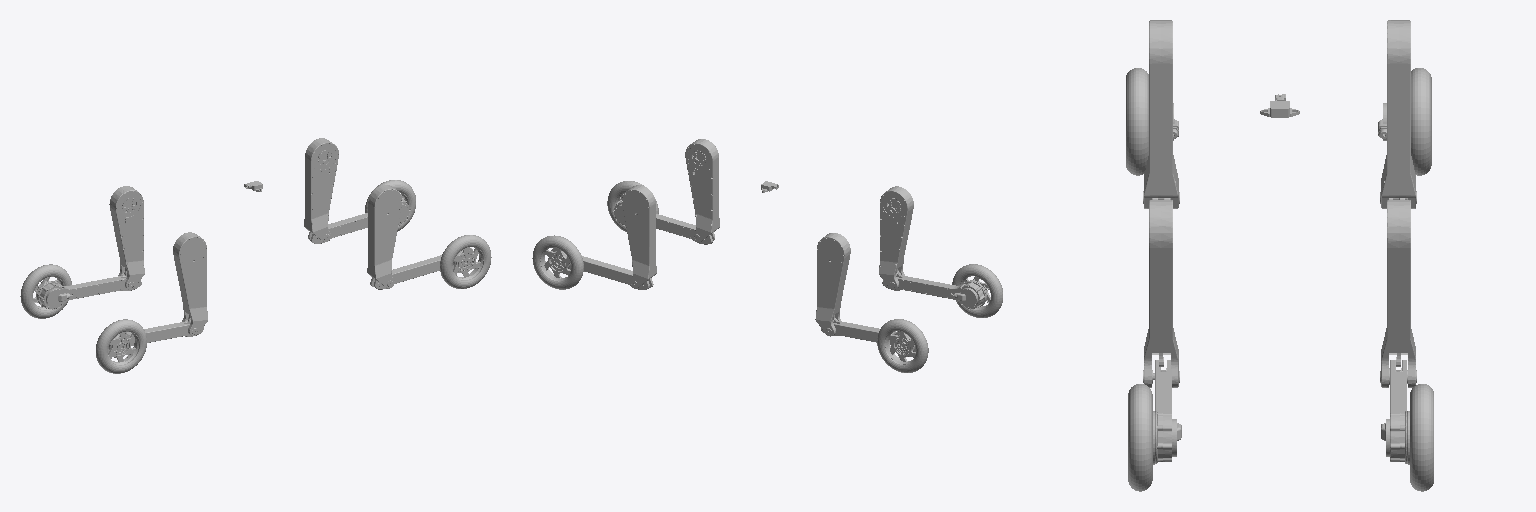
The robot description file, URDF, robot "nezha_description":
<?xml version="1.0" encoding="utf-8"?>
<!-- This URDF was automatically created by SolidWorks to URDF Exporter! Originally created by [author] ([email redacted]) 
     Commit Version: 1.6.0-1-g15f4949  Build Version: 1.6.7594.29634
     For more information, please see http://wiki.ros.org/sw_urdf_exporter -->
<robot
  name="nezha_description">
  <link
    name="trunk_link">
    <inertial>
      <origin
        xyz="0.0097117109800291 -0.00525627464822826 -0.0192016961853611"
        rpy="0 0 0" />
      <mass
        value="44.5813071668691" />
      <inertia
        ixx="0.233715251696309"
        ixy="0.00020507684970943"
        ixz="-0.000286397092023406"
        iyy="0.819140009122644"
        iyz="0.00145609041052585"
        izz="0.983900099657219" />
    </inertial>
    <visual>
      <origin
        xyz="0 0 0"
        rpy="0 0 0" />
      <geometry>
        <mesh
          filename="package://nezha_description/meshes/trunk_link.STL" />
      </geometry>
      <material
        name="">
        <color
          rgba="0.752941176470588 0.752941176470588 0.752941176470588 1" />
      </material>
    </visual>
    <collision>
      <origin
        xyz="0.050 -0.039 -0.045"
        rpy="0 0 0" />
      <geometry>
        <box size="1.121 0.400 0.230" />
      </geometry>
    </collision>
  </link>
  <link
    name="imu_fixed_joint">
    <inertial>
      <origin
        xyz="-0.00391112286353751 4.6759053572501E-05 -0.00988104856351035"
        rpy="0 0 0" />
      <mass
        value="0.317149482477396" />
      <inertia
        ixx="6.62700393762491E-05"
        ixy="1.25080932738823E-08"
        ixz="2.47362681608485E-07"
        iyy="4.70829664870011E-05"
        iyz="-6.38035704808032E-10"
        izz="9.20394438938914E-05" />
    </inertial>
    <visual>
      <origin
        xyz="0 0 0"
        rpy="0 0 0" />
      <geometry>
        <mesh
          filename="package://nezha_description/meshes/imu_fixed_joint.STL" />
      </geometry>
      <material
        name="">
        <color
          rgba="0.752941176470588 0.752941176470588 0.752941176470588 1" />
      </material>
    </visual>
  </link>
  <joint
    name="imu_fixed_joint"
    type="fixed">
    <origin
      xyz="0.00112019201975541 -0.0364882468746482 0.0510999999999999"
      rpy="0 0 0" />
    <parent
      link="trunk_link" />
    <child
      link="imu_fixed_joint" />
    <axis
      xyz="0 0 0" />
  </joint>
  <link
    name="FL_hip_Link">
    <inertial>
      <origin
        xyz="0.0481308758434225 0.031237411921266 -0.000178820738816809"
        rpy="0 0 0" />
      <mass
        value="4.95777307433677" />
      <inertia
        ixx="0.007359084735518"
        ixy="9.2084741196232E-06"
        ixz="-5.41479669002336E-05"
        iyy="0.00905576335336951"
        iyz="-3.45085679226975E-05"
        izz="0.00568945767210049" />
    </inertial>
    <visual>
      <origin
        xyz="0 0 0"
        rpy="0 0 0" />
      <geometry>
        <mesh
          filename="package://nezha_description/meshes/FL_hip_Link.STL" />
      </geometry>
      <material
        name="">
        <color
          rgba="1 1 1 1" />
      </material>
    </visual>
  </link>
  <joint
    name="FL_hip_joint"
    type="revolute">
    <origin
      xyz="0.347120192019755 0.0485117531253507 -0.0290000000000001"
      rpy="0 0 0" />
    <parent
      link="trunk_link" />
    <child
      link="FL_hip_Link" />
    <axis
      xyz="1 0 0" />
    <limit
      lower="-0.7854"
      upper="1.5533"
      effort="300"
      velocity="30" />
  </joint>
  <link
    name="FL_thigh_Link">
    <inertial>
      <origin
        xyz="-0.00789152728440906 0.0231954085669646 -0.13534872873866"
        rpy="0 0 0" />
      <mass
        value="3.76183569211295" />
      <inertia
        ixx="0.0451073093483587"
        ixy="-1.55510741831772E-06"
        ixz="-0.00269646684705478"
        iyy="0.0482771079577287"
        iyz="-1.22316362690701E-05"
        izz="0.00375836763200595" />
    </inertial>
    <visual>
      <origin
        xyz="0 0 0"
        rpy="0 0 0" />
      <geometry>
        <mesh
          filename="package://nezha_description/meshes/FL_thigh_Link.STL" />
      </geometry>
      <material
        name="">
        <color
          rgba="0.752941176470588 0.752941176470588 0.752941176470588 1" />
      </material>
    </visual>
  </link>
  <joint
    name="FL_thigh_joint"
    type="revolute">
    <origin
      xyz="0.0850000002315277 0.132499999999998 0"
      rpy="0 0 0" />
    <parent
      link="FL_hip_Link" />
    <child
      link="FL_thigh_Link" />
    <axis
      xyz="0 1 0" />
    <limit
      lower="-1.571"
      upper="1.571"
      effort="300"
      velocity="30" />
  </joint>
  <link
    name="FL_calf_Link">
    <inertial>
      <origin
        xyz="-0.000298930174633172 -0.0360468214801364 -0.231066279501091"
        rpy="0 0 0" />
      <mass
        value="2.04680739068494" />
      <inertia
        ixx="0.0179701447590882"
        ixy="1.4217010187377E-07"
        ixz="9.8394383276419E-05"
        iyy="0.0189697544277413"
        iyz="5.91548462227387E-05"
        izz="0.00117924531852517" />
    </inertial>
    <visual>
      <origin
        xyz="0 0 0"
        rpy="0 0 0" />
      <geometry>
        <mesh
          filename="package://nezha_description/meshes/FL_calf_Link.STL" />
      </geometry>
      <material
        name="">
        <color
          rgba="0.752941176470588 0.752941176470588 0.752941176470588 1" />
      </material>
    </visual>
    <collision>
      <origin
        xyz="0 -0.04 -0.170"
        rpy="0 0 0" />
      <geometry>
        <box size="0.05 0.06 0.390" />
      </geometry>
    </collision>
  </link>
  <joint
    name="FL_calf_joint"
    type="revolute">
    <origin
      xyz="0 0.0619999999999968 -0.330000000000104"
      rpy="0 0 0" />
    <parent
      link="FL_thigh_Link" />
    <child
      link="FL_calf_Link" />
    <axis
      xyz="0 1 0" />
    <limit
      lower="-2.478"
      upper="-0.768"
      effort="300"
      velocity="30" />
  </joint>
  <link
    name="FL_foot">
    <inertial>
      <origin
        xyz="-5.47956237606506E-08 0.0223421202026282 -1.43132890262354E-09"
        rpy="0 0 0" />
      <mass
        value="8.83568216072149" />
      <inertia
        ixx="0.0326100919299935"
        ixy="2.059536962888E-09"
        ixz="-4.28896163702452E-09"
        iyy="0.062627271804759"
        iyz="-6.79652953357635E-11"
        izz="0.0326099829503154" />
    </inertial>
    <visual>
      <origin
        xyz="0 0 0"
        rpy="0 0 0" />
      <geometry>
        <mesh
          filename="package://nezha_description/meshes/FL_foot_Link.STL" />
      </geometry>
      <material
        name="">
        <color
          rgba="0.752941176470588 0.752941176470588 0.752941176470588 1" />
      </material>
    </visual>
    <collision>
      <origin
        xyz="0 0.022 0"
        rpy="1.5707963267948966 0 0" />
      <geometry>
        <cylinder length="0.040" radius="0.105" />
      </geometry>
    </collision>
  </link>
  <joint
    name="FL_foot_joint"
    type="revolute">
    <origin
      xyz="0 -0.0140000000000013 -0.329999999999984"
      rpy="0 0 0" />
    <parent
      link="FL_calf_Link" />
    <child
      link="FL_foot" />
    <axis
      xyz="0 1 0" />
    <limit
      lower="-9999"
      upper="9999"
      effort="60"
      velocity="100" />
  </joint>
  <link
    name="FR_hip_Link">
    <inertial>
      <origin
        xyz="0.0481308758434078 -0.0312374119212663 0.000178820738807151"
        rpy="0 0 0" />
      <mass
        value="4.95777307433546" />
      <inertia
        ixx="0.00735908473551803"
        ixy="-9.20847411961681E-06"
        ixz="5.41479669002544E-05"
        iyy="0.00905576335336956"
        iyz="-3.4508567922699E-05"
        izz="0.00568945767210055" />
    </inertial>
    <visual>
      <origin
        xyz="0 0 0"
        rpy="0 0 0" />
      <geometry>
        <mesh
          filename="package://nezha_description/meshes/FR_hip_Link.STL" />
      </geometry>
      <material
        name="">
        <color
          rgba="1 1 1 1" />
      </material>
    </visual>
  </link>
  <joint
    name="FR_hip_joint"
    type="revolute">
    <origin
      xyz="0.34712 -0.12149 -0.029"
      rpy="0 0 0" />
    <parent
      link="trunk_link" />
    <child
      link="FR_hip_Link" />
    <axis
      xyz="1 0 0" />
    <limit
      lower="-1.5533"
      upper="0.7854"
      effort="300"
      velocity="30" />
  </joint>
  <link
    name="FR_thigh_Link">
    <inertial>
      <origin
        xyz="-0.00792823378010465 -0.0232000692498877 -0.135244006919692"
        rpy="0 0 0" />
      <mass
        value="3.76400910315758" />
      <inertia
        ixx="0.0450973379966484"
        ixy="1.77100087312649E-06"
        ixz="-0.00269076504849427"
        iyy="0.0482641849881902"
        iyz="1.26080258418607E-05"
        izz="0.00375548649616189" />
    </inertial>
    <visual>
      <origin
        xyz="0 0 0"
        rpy="0 0 0" />
      <geometry>
        <mesh
          filename="package://nezha_description/meshes/FR_thigh_Link.STL" />
      </geometry>
      <material
        name="">
        <color
          rgba="0.752941176470588 0.752941176470588 0.752941176470588 1" />
      </material>
    </visual>
  </link>
  <joint
    name="FR_thigh_joint"
    type="revolute">
    <origin
      xyz="0.0850000002315277 -0.132499999999998 0"
      rpy="0 0 0" />
    <parent
      link="FR_hip_Link" />
    <child
      link="FR_thigh_Link" />
    <axis
      xyz="0 1 0" />
    <limit
      lower="-1.571"
      upper="1.571"
      effort="300"
      velocity="30" />
  </joint>
  <link
    name="FR_calf_Link">
    <inertial>
      <origin
        xyz="-0.000395756832856642 0.0440509789333628 -0.174477985386167"
        rpy="0 0 0" />
      <mass
        value="2.49104186855833" />
      <inertia
        ixx="0.0368512511682875"
        ixy="-5.19290035519004E-08"
        ixz="0.000169732088195987"
        iyy="0.0379084013103881"
        iyz="-6.75252408226386E-05"
        izz="0.00117146878782971" />
    </inertial>
    <visual>
      <origin
        xyz="0 0 0"
        rpy="0 0 0" />
      <geometry>
        <mesh
          filename="package://nezha_description/meshes/FR_calf_Link.STL" />
      </geometry>
      <material
        name="">
        <color
          rgba="0.752941176470588 0.752941176470588 0.752941176470588 1" />
      </material>
    </visual>
    <collision>
      <origin
        xyz="0 0.05 -0.170"
        rpy="0 0 0" />
      <geometry>
        <box size="0.05 0.06 0.390" />
      </geometry>
    </collision>
  </link>
  <joint
    name="FR_calf_joint"
    type="revolute">
    <origin
      xyz="0 -0.0619999999999982 -0.329999999999805"
      rpy="0 0 0" />
    <parent
      link="FR_thigh_Link" />
    <child
      link="FR_calf_Link" />
    <axis
      xyz="0 1 0" />
    <limit
      lower="-2.478"
      upper="-0.768"
      effort="300"
      velocity="30" />
  </joint>
  <link
    name="FR_foot">
    <inertial>
      <origin
        xyz="5.47994326027812E-08 -0.0223421202039215 -1.43541313557538E-09"
        rpy="0 0 0" />
      <mass
        value="8.835682161799" />
      <inertia
        ixx="0.0326100919327111"
        ixy="2.05981956793858E-09"
        ixz="4.29123858577254E-09"
        iyy="0.0626272718074757"
        iyz="6.76314919727173E-11"
        izz="0.0326099829526871" />
    </inertial>
    <visual>
      <origin
        xyz="0 0 0"
        rpy="0 0 0" />
      <geometry>
        <mesh
          filename="package://nezha_description/meshes/FR_foot_Link.STL" />
      </geometry>
      <material
        name="">
        <color
          rgba="0.752941176470588 0.752941176470588 0.752941176470588 1" />
      </material>
    </visual>
    <collision>
      <origin
        xyz="0 -0.022 0"
        rpy="1.5707963267948966 0 0" />
      <geometry>
        <cylinder length="0.040" radius="0.105" />
      </geometry>
    </collision>
  </link>
  <joint
    name="FR_foot_joint"
    type="revolute">
    <origin
      xyz="0 0.0191743224506925 -0.329999999987678"
      rpy="0 0 0" />
    <parent
      link="FR_calf_Link" />
    <child
      link="FR_foot" />
    <axis
      xyz="0 1 0" />
    <limit
      lower="-9999"
      upper="9999"
      effort="60"
      velocity="100" />
  </joint>
  <link
    name="RL_hip_Link">
    <inertial>
      <origin
        xyz="-0.0481308758426632 0.0312374119208174 0.000178820738833574"
        rpy="0 0 0" />
      <mass
        value="4.95777307436682" />
      <inertia
        ixx="0.00735908473551868"
        ixy="-9.20847411963166E-06"
        ixz="-5.41479669001815E-05"
        iyy="0.00905576335337011"
        iyz="3.45085679229245E-05"
        izz="0.00568945767210076" />
    </inertial>
    <visual>
      <origin
        xyz="0 0 0"
        rpy="0 0 0" />
      <geometry>
        <mesh
          filename="package://nezha_description/meshes/RL_hip_Link.STL" />
      </geometry>
      <material
        name="">
        <color
          rgba="1 1 1 1" />
      </material>
    </visual>
  </link>
  <joint
    name="RL_hip_joint"
    type="revolute">
    <origin
      xyz="-0.34488 0.048512 -0.029"
      rpy="0 0 0" />
    <parent
      link="trunk_link" />
    <child
      link="RL_hip_Link" />
    <axis
      xyz="1 0 0" />
    <limit
      lower="-0.7854"
      upper="1.5533"
      effort="300"
      velocity="30" />
  </joint>
  <link
    name="RL_thigh_Link">
    <inertial>
      <origin
        xyz="0.00792940184602209 0.0232000692498988 -0.135243938440513"
        rpy="0 0 0" />
      <mass
        value="3.76400910317075" />
      <inertia
        ixx="0.0450972915147272"
        ixy="1.77110976416682E-06"
        ixz="0.0026911221065521"
        iyy="0.0482641849881934"
        iyz="-1.26080105434088E-05"
        izz="0.0037555329780878" />
    </inertial>
    <visual>
      <origin
        xyz="0 0 0"
        rpy="0 0 0" />
      <geometry>
        <mesh
          filename="package://nezha_description/meshes/RL_thigh_Link.STL" />
      </geometry>
      <material
        name="">
        <color
          rgba="0.752941176470588 0.752941176470588 0.752941176470588 1" />
      </material>
    </visual>
  </link>
  <joint
    name="RL_thigh_joint"
    type="revolute">
    <origin
      xyz="-0.0850000002315277 0.132499999999998 0"
      rpy="0 0 0" />
    <parent
      link="RL_hip_Link" />
    <child
      link="RL_thigh_Link" />
    <axis
      xyz="0 1 0" />
    <limit
      lower="-1.571"
      upper="1.571"
      effort="300"
      velocity="30" />
  </joint>
  <link
    name="RL_calf_Link">
    <inertial>
      <origin
        xyz="0.000386004912476312 -0.0440626375678176 -0.175092237974855"
        rpy="0 0 0" />
      <mass
        value="2.48364340590704" />
      <inertia
        ixx="0.0368510203687876"
        ixy="-5.25103185137994E-08"
        ixz="-0.000169423925155194"
        iyy="0.037907938835034"
        iyz="6.75252339517174E-05"
        izz="0.0011712321807454" />
    </inertial>
    <visual>
      <origin
        xyz="0 0 0"
        rpy="0 0 0" />
      <geometry>
        <mesh
          filename="package://nezha_description/meshes/RL_calf_Link.STL" />
      </geometry>
      <material
        name="">
        <color
          rgba="0.752941176470588 0.752941176470588 0.752941176470588 1" />
      </material>
    </visual>
    <collision>
      <origin
        xyz="0 -0.05 -0.170"
        rpy="0 0 0" />
      <geometry>
        <box size="0.05 0.06 0.390" />
      </geometry>
    </collision>
  </link>
  <joint
    name="RL_calf_joint"
    type="revolute">
    <origin
      xyz="0 0.0619999999999982 -0.329999999987498"
      rpy="0 0 0" />
    <parent
      link="RL_thigh_Link" />
    <child
      link="RL_calf_Link" />
    <axis
      xyz="0 1 0" />
    <limit
      lower="0.768"
      upper="2.478"
      effort="300"
      velocity="30" />
  </joint>
  <link
    name="RL_foot">
    <inertial>
      <origin
        xyz="-5.47956238161618E-08 0.0223421202026282 -1.43132586338801E-09"
        rpy="0 0 0" />
      <mass
        value="8.83568216072149" />
      <inertia
        ixx="0.0326100919299935"
        ixy="2.05953684317548E-09"
        ixz="-4.28896162889752E-09"
        iyy="0.0626272718047589"
        iyz="-6.79651576964532E-11"
        izz="0.0326099829503154" />
    </inertial>
    <visual>
      <origin
        xyz="0 0 0"
        rpy="0 0 0" />
      <geometry>
        <mesh
          filename="package://nezha_description/meshes/RL_foot_Link.STL" />
      </geometry>
      <material
        name="">
        <color
          rgba="0.752941176470588 0.752941176470588 0.752941176470588 1" />
      </material>
    </visual>
    <collision>
      <origin
        xyz="0 0.022 0"
        rpy="1.5707963267948966 0 0" />
      <geometry>
        <cylinder length="0.040" radius="0.105" />
      </geometry>
    </collision>
  </link>
  <joint
    name="RL_foot_joint"
    type="revolute">
    <origin
      xyz="0 -0.0191743224506925 -0.329999999999986"
      rpy="0 0 0" />
    <parent
      link="RL_calf_Link" />
    <child
      link="RL_foot" />
    <axis
      xyz="0 1 0" />
    <limit
      lower="-9999"
      upper="9999"
      effort="60"
      velocity="100" />
  </joint>
  <link
    name="RR_hip_Link">
    <inertial>
      <origin
        xyz="-0.0481308758426749 -0.0312374119208027 -0.000178820738822361"
        rpy="0 0 0" />
      <mass
        value="4.95777307436896" />
      <inertia
        ixx="0.00735908473551881"
        ixy="9.20847411964646E-06"
        ixz="5.41479669002005E-05"
        iyy="0.00905576335337035"
        iyz="3.4508567922934E-05"
        izz="0.0056894576721009" />
    </inertial>
    <visual>
      <origin
        xyz="0 0 0"
        rpy="0 0 0" />
      <geometry>
        <mesh
          filename="package://nezha_description/meshes/RR_hip_Link.STL" />
      </geometry>
      <material
        name="">
        <color
          rgba="1 1 1 1" />
      </material>
    </visual>
  </link>
  <joint
    name="RR_hip_joint"
    type="revolute">
    <origin
      xyz="-0.344879807980245 -0.121488246874649 -0.0290000000000001"
      rpy="0 0 0" />
    <parent
      link="trunk_link" />
    <child
      link="RR_hip_Link" />
    <axis
      xyz="1 0 0" />
    <limit
      lower="-1.5533"
      upper="0.7854"
      effort="300"
      velocity="30" />
  </joint>
  <link
    name="RR_thigh_Link">
    <inertial>
      <origin
        xyz="0.00789269587070718 -0.0231954085669464 -0.135348660048965"
        rpy="0 0 0" />
      <mass
        value="3.76183569211572" />
      <inertia
        ixx="0.045107262767927"
        ixy="-1.5552130589958E-06"
        ixz="0.00269682396637"
        iyy="0.0482771079577102"
        iyz="1.22316228381288E-05"
        izz="0.00375841421241886" />
    </inertial>
    <visual>
      <origin
        xyz="0 0 0"
        rpy="0 0 0" />
      <geometry>
        <mesh
          filename="package://nezha_description/meshes/RR_thigh_Link.STL" />
      </geometry>
      <material
        name="">
        <color
          rgba="0.752941176470588 0.752941176470588 0.752941176470588 1" />
      </material>
    </visual>
  </link>
  <joint
    name="RR_thigh_joint"
    type="revolute">
    <origin
      xyz="-0.0850000002315277 -0.132499999999998 0"
      rpy="0 0 0" />
    <parent
      link="RR_hip_Link" />
    <child
      link="RR_thigh_Link" />
    <axis
      xyz="0 1 0" />
    <limit
      lower="-1.571"
      upper="1.571"
      effort="300"
      velocity="30" />
  </joint>
  <link
    name="RR_calf_Link">
    <inertial>
      <origin
        xyz="0.000392106809710135 0.0482554129761137 -0.193054540786499"
        rpy="0 0 0" />
      <mass
        value="1.45901720310113" />
      <inertia
        ixx="0.0174773987392325"
        ixy="1.37149189677392E-07"
        ixz="-9.80221849379599E-05"
        iyy="0.0180881558682737"
        iyz="-5.92010373867024E-05"
        izz="0.000685825481739598" />
    </inertial>
    <visual>
      <origin
        xyz="0 0 0"
        rpy="0 0 0" />
      <geometry>
        <mesh
          filename="package://nezha_description/meshes/RR_calf_Link.STL" />
      </geometry>
      <material
        name="">
        <color
          rgba="0.752941176470588 0.752941176470588 0.752941176470588 1" />
      </material>
    </visual>
    <collision>
      <origin
        xyz="0 0.05 -0.170"
        rpy="0 0 0" />
      <geometry>
        <box size="0.05 0.06 0.390" />
      </geometry>
    </collision>
  </link>
  <joint
    name="RR_calf_joint"
    type="revolute">
    <origin
      xyz="0 -0.0619999999999969 -0.329999999460342"
      rpy="0 0 0" />
    <parent
      link="RR_thigh_Link" />
    <child
      link="RR_calf_Link" />
    <axis
      xyz="0 1 0" />
    <limit
      lower="0.768"
      upper="2.478"
      effort="300"
      velocity="30" />
  </joint>
  <link
    name="RR_foot">
    <inertial>
      <origin
        xyz="5.47956399143956E-08 -0.0223421202026284 -1.4308530471574E-09"
        rpy="0 0 0" />
      <mass
        value="8.83568216072149" />
      <inertia
        ixx="0.0326100919299194"
        ixy="2.05953639786105E-09"
        ixz="4.28990285591274E-09"
        iyy="0.062627271804759"
        iyz="6.7983045321868E-11"
        izz="0.0326099829503895" />
    </inertial>
    <visual>
      <origin
        xyz="0 0 0"
        rpy="0 0 0" />
      <geometry>
        <mesh
          filename="package://nezha_description/meshes/RR_foot_Link.STL" />
      </geometry>
      <material
        name="">
        <color
          rgba="0.752941176470588 0.752941176470588 0.752941176470588 1" />
      </material>
    </visual>
    <collision>
      <origin
        xyz="0 -0.022 0"
        rpy="1.5707963267948966 0 0" />
      <geometry>
        <cylinder length="0.040" radius="0.105" />
      </geometry>
    </collision>
  </link>
  <joint
    name="RR_foot_joint"
    type="revolute">
    <origin
      xyz="0 0.0140000000000008 -0.329999999987677"
      rpy="0 0 0" />
    <parent
      link="RR_calf_Link" />
    <child
      link="RR_foot" />
    <axis
      xyz="0 1 0" />
    <limit
      lower="-9999"
      upper="9999"
      effort="60"
      velocity="100" />
  </joint>
</robot>

--- Render facts (derived) ---
The picture shows the robot from 3 angles, left to right: view 1: azimuth 30°, elevation 25°; view 2: azimuth 150°, elevation 25°; view 3: azimuth 270°, elevation 25°; orthographic projection.
Robot: nezha_description — 18 links, 17 joints (16 revolute, 1 fixed); root link trunk_link; default pose: all joints at 0 but 4 set to mid-range because 0 is outside their limits (FL_calf_joint = -1.62, FR_calf_joint = -1.62, RL_calf_joint = 1.62, RR_calf_joint = 1.62).
Links seen in each view (by area): view 1: FR_thigh_Link, FL_thigh_Link, RL_thigh_Link, RR_thigh_Link, RR_foot, FR_foot, RL_calf_Link, RL_foot, FL_calf_Link, FR_calf_Link, RR_calf_Link, FL_foot; view 2: FL_thigh_Link, FR_thigh_Link, RR_thigh_Link, RL_thigh_Link, RL_foot, FL_foot, RR_calf_Link, RR_foot, FL_calf_Link, FR_calf_Link, RL_calf_Link, FR_foot; view 3: RL_thigh_Link, RR_thigh_Link, FL_thigh_Link, FR_thigh_Link, FR_foot, FL_foot, RR_foot, RL_foot, FL_calf_Link, FR_calf_Link, imu_fixed_joint.
Boxes of the visible links, x1,y1,x2,y2 form: FR_thigh_Link: [367, 185, 401, 288]; FL_thigh_Link: [304, 138, 338, 241]; RL_thigh_Link: [109, 186, 144, 289]; RR_thigh_Link: [173, 232, 207, 335]; RR_foot: [96, 319, 146, 373]; FR_foot: [440, 235, 491, 288]; RL_calf_Link: [38, 275, 141, 309]; RL_foot: [20, 264, 71, 318]; FL_calf_Link: [308, 198, 410, 243]; FR_calf_Link: [370, 255, 441, 289]; RR_calf_Link: [127, 320, 203, 345]; FL_foot: [365, 180, 415, 231]; FL_thigh_Link: [622, 185, 656, 288]; FR_thigh_Link: [685, 139, 719, 242]; RR_thigh_Link: [879, 186, 913, 289]; RL_thigh_Link: [815, 233, 850, 336]; RL_foot: [877, 319, 928, 372]; FL_foot: [532, 235, 583, 289]; RR_calf_Link: [882, 274, 985, 309]; RR_foot: [952, 264, 1002, 317]; FL_calf_Link: [551, 248, 653, 289]; FR_calf_Link: [613, 199, 714, 244]; RL_calf_Link: [821, 320, 897, 345]; FR_foot: [607, 181, 658, 231]; RL_thigh_Link: [1380, 20, 1416, 208]; RR_thigh_Link: [1143, 20, 1179, 208]; FL_thigh_Link: [1380, 200, 1416, 387]; FR_thigh_Link: [1143, 200, 1179, 387]; FR_foot: [1128, 384, 1154, 491]; FL_foot: [1407, 384, 1433, 491]; RR_foot: [1126, 68, 1148, 175]; RL_foot: [1411, 68, 1431, 175]; FL_calf_Link: [1381, 360, 1409, 464]; FR_calf_Link: [1155, 360, 1181, 463]; imu_fixed_joint: [1260, 94, 1299, 117].
Bounding box of the posed robot: 1.74 × 0.6287 × 0.5073 m (x, y, z).
13 mesh visuals loaded from 18 distinct referenced files (13 binary STL); not drawn: 5 (reference not matched to a file when rendering).
